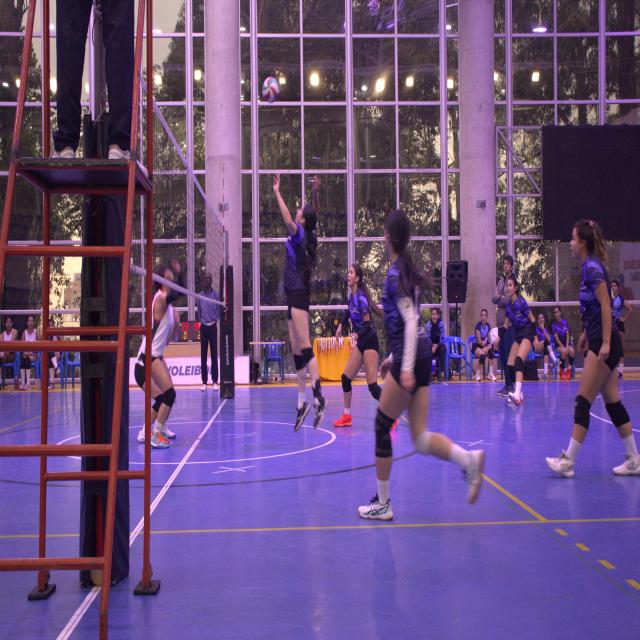volleyball: (262, 76, 280, 104)
